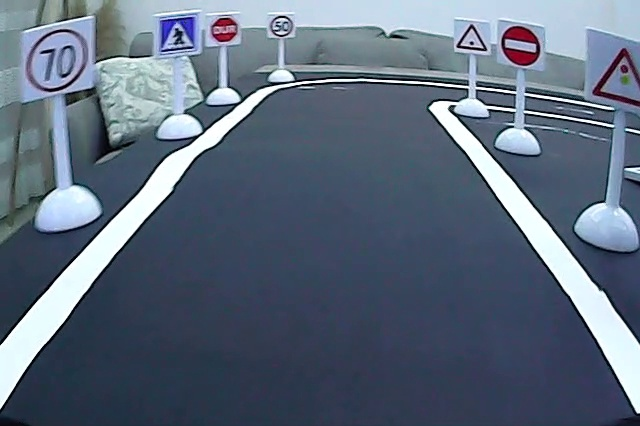do not enter: (499, 20, 542, 65)
green light: (456, 22, 490, 54)
pedestrian crossing: (158, 14, 199, 56)
red light: (589, 41, 640, 109)
speed limit 50: (269, 13, 296, 36)
speed limit 70: (25, 27, 91, 99)
stop sign: (210, 14, 241, 47)
